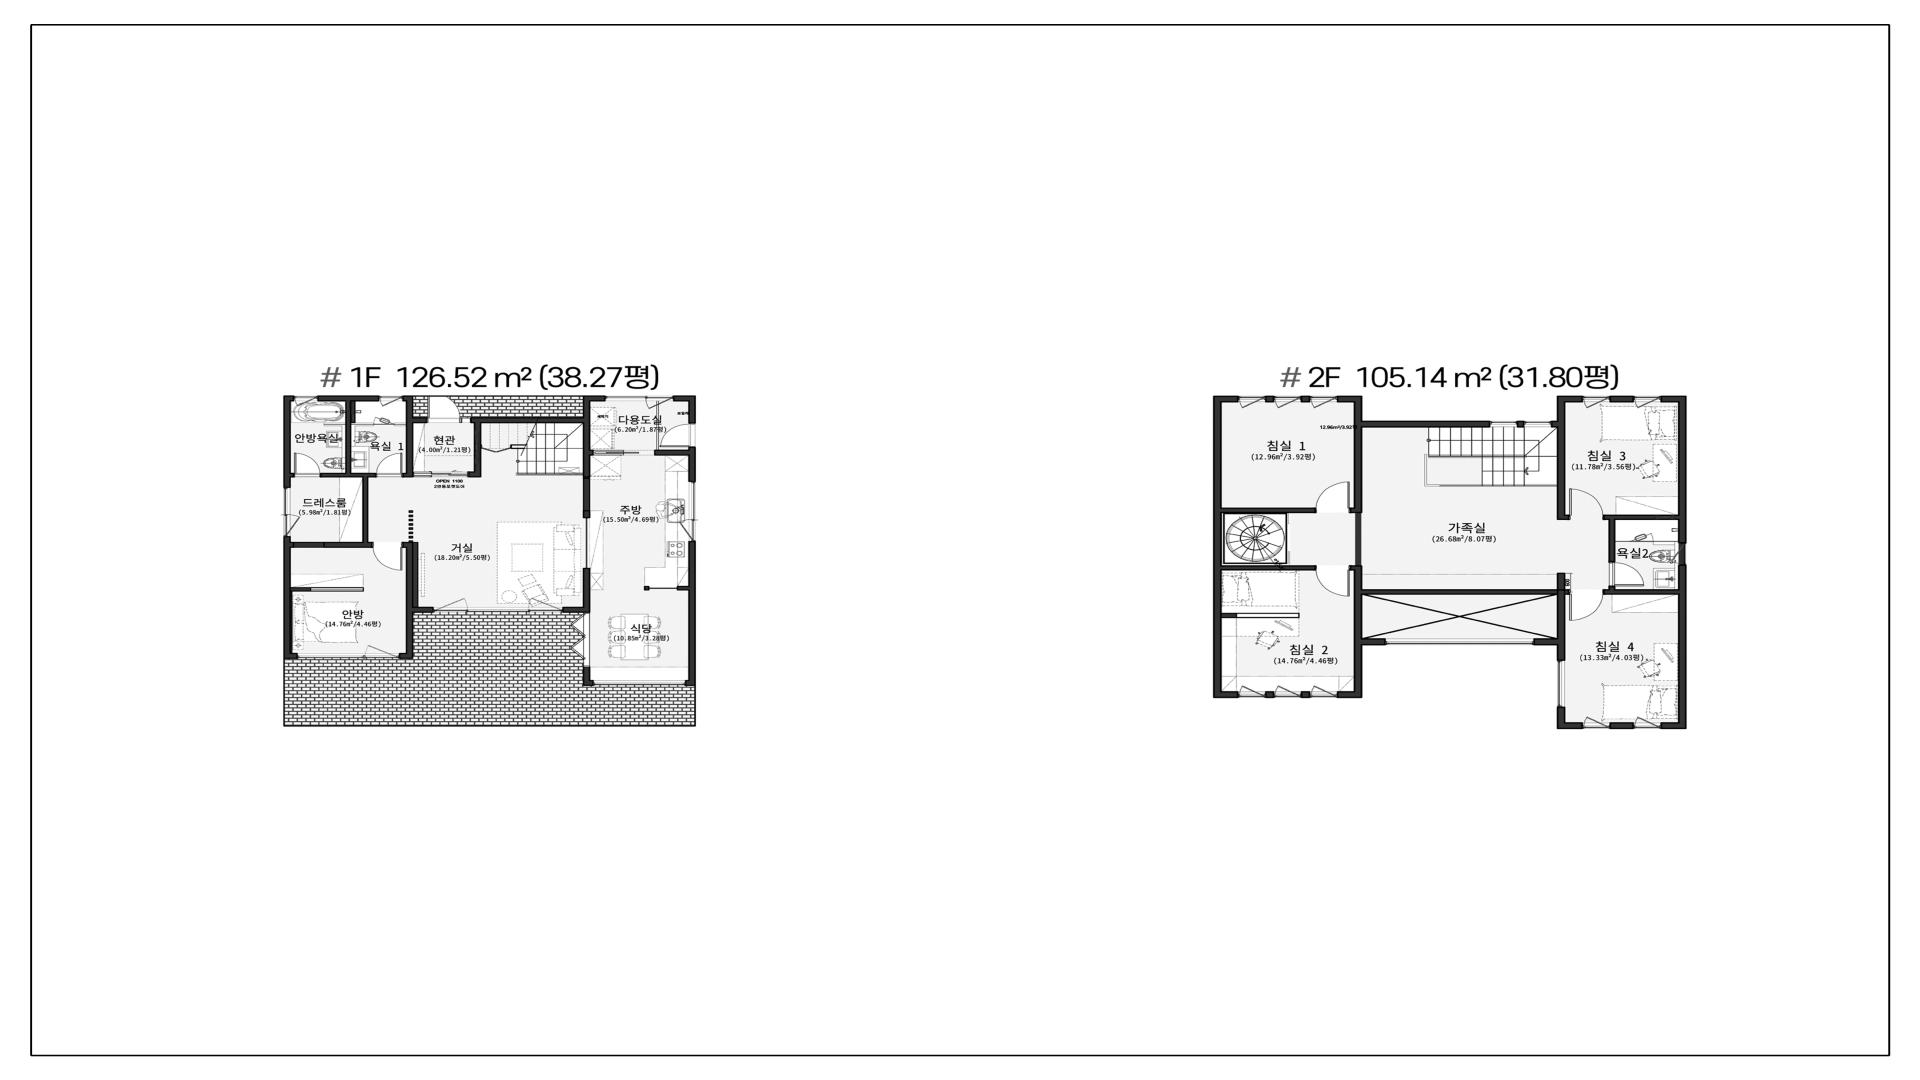door: (1315, 564, 1350, 596), (427, 397, 469, 423), (1569, 589, 1604, 621), (1569, 488, 1604, 520), (1316, 481, 1350, 513), (1609, 562, 1644, 587), (373, 542, 404, 571), (294, 452, 320, 477), (376, 452, 402, 477), (593, 450, 654, 456), (414, 471, 468, 477), (1629, 533, 1655, 542), (373, 417, 394, 425), (585, 518, 588, 568)
wall: (1213, 402, 1221, 691), (1679, 564, 1687, 723), (1679, 402, 1687, 543), (688, 541, 696, 680), (1362, 589, 1557, 595), (284, 537, 291, 653), (1354, 421, 1490, 427), (471, 417, 591, 423), (583, 423, 591, 518), (284, 401, 291, 488), (1557, 427, 1565, 514), (1354, 427, 1362, 508), (1353, 571, 1362, 638), (291, 542, 373, 549), (1557, 572, 1565, 638), (1222, 566, 1316, 571), (1222, 508, 1316, 513), (406, 547, 414, 607), (1222, 613, 1300, 618), (1604, 589, 1677, 595), (1604, 514, 1677, 520), (291, 587, 364, 592), (473, 423, 481, 471), (345, 402, 351, 472), (1354, 646, 1362, 691), (363, 477, 368, 542), (318, 396, 380, 401), (406, 423, 413, 472), (583, 568, 591, 607), (1609, 520, 1615, 562), (1356, 513, 1361, 566), (688, 447, 696, 481), (406, 613, 413, 653), (644, 585, 688, 591), (320, 473, 376, 477), (1354, 638, 1386, 645), (1534, 638, 1565, 645), (1557, 396, 1565, 421), (1354, 396, 1362, 421), (562, 607, 591, 613), (406, 607, 434, 613), (654, 450, 688, 455), (1557, 707, 1565, 729), (688, 401, 696, 423), (1660, 723, 1687, 729), (1660, 396, 1687, 402), (1213, 396, 1238, 402), (1213, 691, 1238, 698), (1337, 691, 1362, 698), (1610, 723, 1634, 729), (1610, 396, 1634, 402), (406, 417, 427, 423), (583, 396, 605, 401), (674, 396, 696, 401), (583, 402, 591, 417), (1557, 646, 1565, 661), (1565, 396, 1582, 402), (1337, 396, 1354, 402), (1565, 723, 1582, 729), (351, 401, 356, 422), (583, 667, 591, 680), (284, 653, 298, 659), (406, 402, 413, 417), (1551, 421, 1565, 427), (352, 422, 373, 426), (400, 653, 413, 658), (1300, 396, 1311, 402), (1300, 691, 1311, 698), (468, 472, 481, 477), (1350, 508, 1362, 513), (1350, 566, 1362, 571), (1557, 514, 1569, 520), (1265, 396, 1274, 402), (284, 396, 294, 401), (402, 396, 413, 401), (404, 542, 414, 547), (583, 680, 593, 686), (686, 680, 696, 686), (1266, 691, 1274, 698), (394, 422, 406, 426), (1518, 421, 1524, 427), (402, 473, 413, 477), (1655, 541, 1679, 542), (1565, 589, 1569, 595), (1609, 587, 1615, 589), (1615, 541, 1629, 542), (591, 450, 593, 455), (291, 473, 294, 477)
window: (434, 597, 562, 613), (298, 645, 398, 659), (570, 613, 591, 667), (679, 481, 696, 541), (1386, 638, 1534, 645), (605, 396, 673, 409), (659, 423, 696, 447), (284, 488, 301, 537), (593, 680, 684, 686), (1557, 661, 1565, 707), (1274, 684, 1300, 698), (1634, 716, 1660, 729), (1238, 396, 1265, 409), (1274, 396, 1300, 409), (1311, 396, 1337, 409), (1634, 396, 1660, 409), (1582, 716, 1609, 729), (1584, 396, 1609, 409), (1238, 686, 1266, 698), (1311, 686, 1337, 698), (1672, 543, 1687, 564), (294, 396, 318, 406), (380, 396, 402, 406), (1490, 421, 1516, 427), (1524, 421, 1551, 427)
